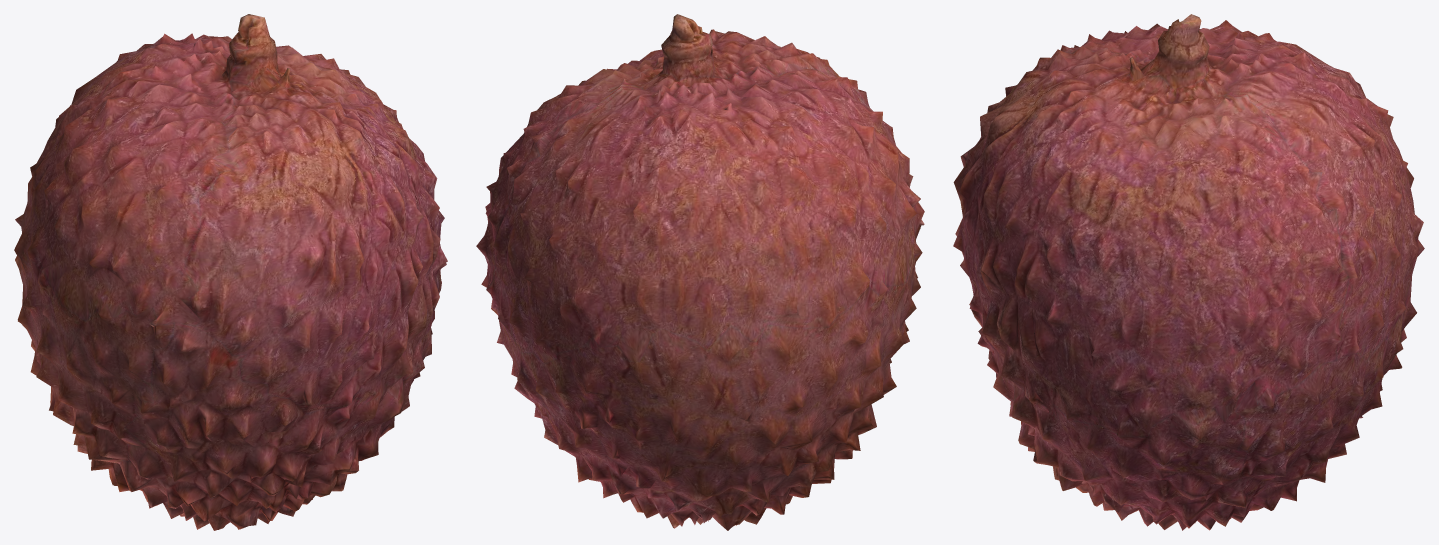
File: food_lychee_01.glb
3 renders of one model, left to right at view 1: azimuth 30°, elevation 25°; view 2: azimuth 150°, elevation 25°; view 3: azimuth 270°, elevation 25°, orthographic. The views are drawn at different scales.
Parts seen in each view (by area): view 1: food_lychee_01; view 2: food_lychee_01; view 3: food_lychee_01.
Boxes of the visible parts, x1=… form: food_lychee_01: x1=14, y1=14, x2=447, y2=530; food_lychee_01: x1=476, y1=14, x2=924, y2=530; food_lychee_01: x1=953, y1=14, x2=1424, y2=530.
Size of the model in its own units: 0.0409 by 0.0506 by 0.042.
1 material, 1 textured.
